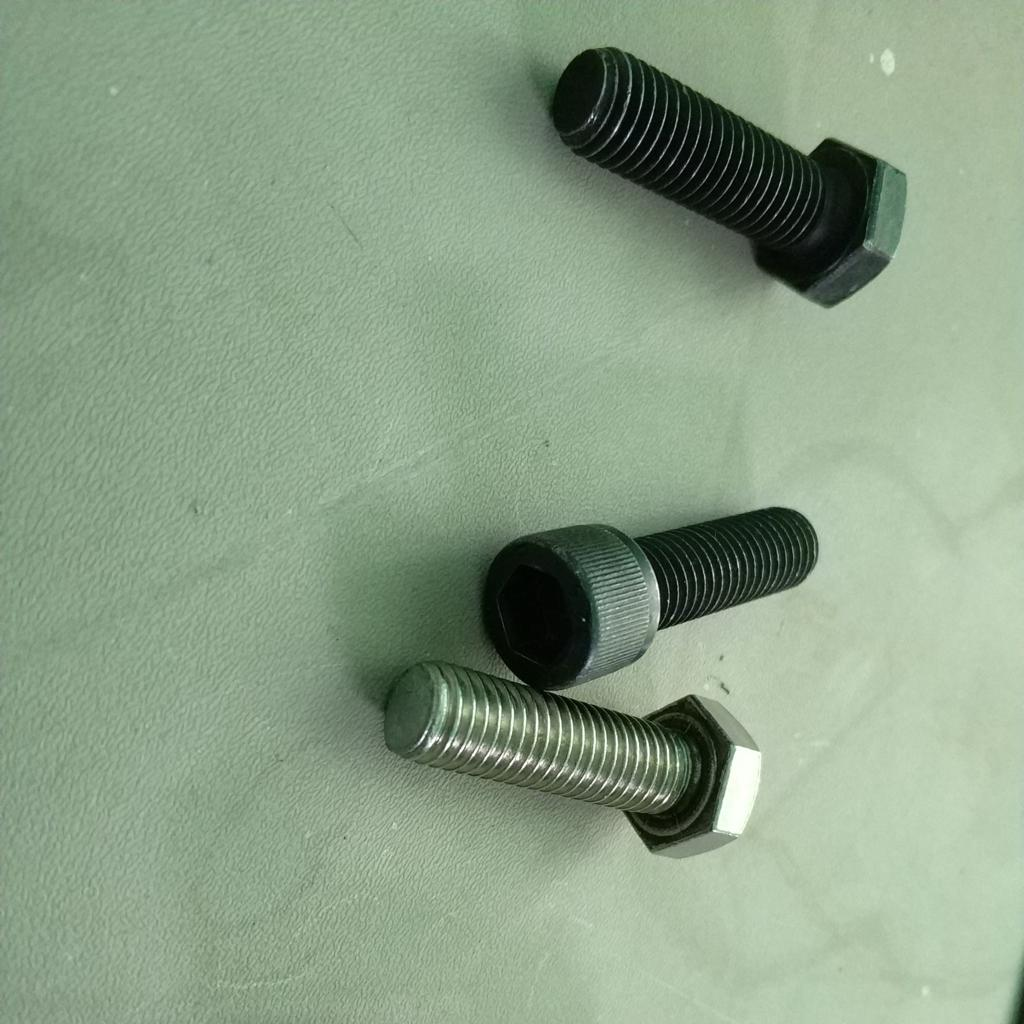screwtype1black: (462, 485, 825, 688)
screwtype2black: (539, 37, 909, 310)
screwtype2silver: (363, 652, 769, 864)
